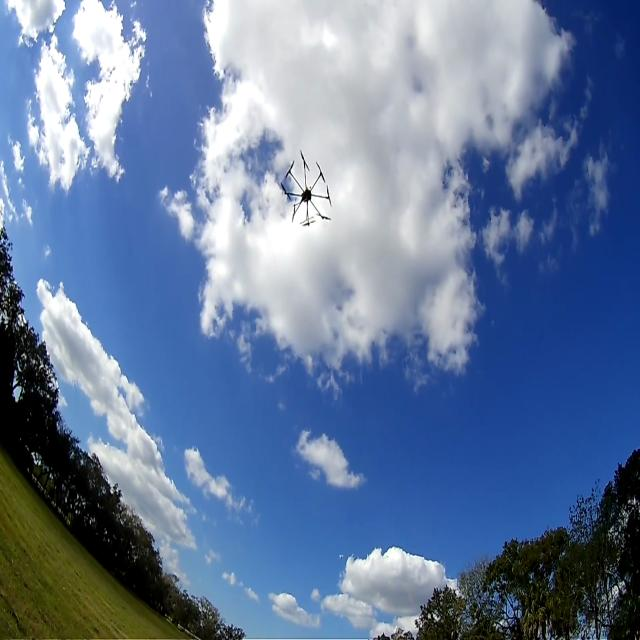drone: (272, 140, 348, 240)
